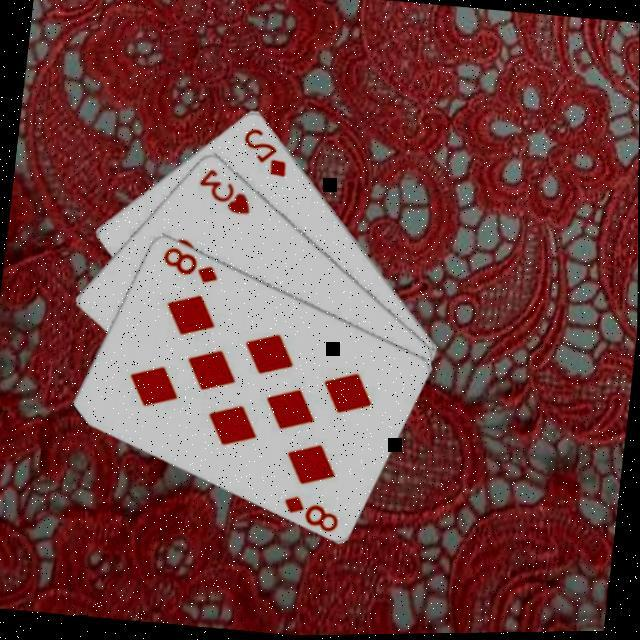2D: (236, 125, 294, 183)
3H: (193, 165, 258, 221)
8D: (158, 243, 224, 290), (278, 492, 344, 539)
